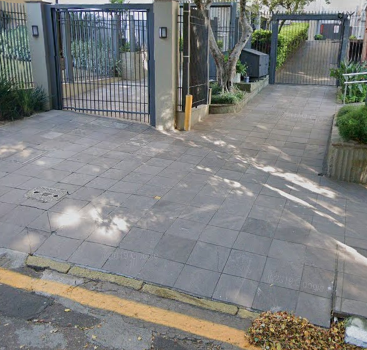vag103: (1, 240, 234, 350)
